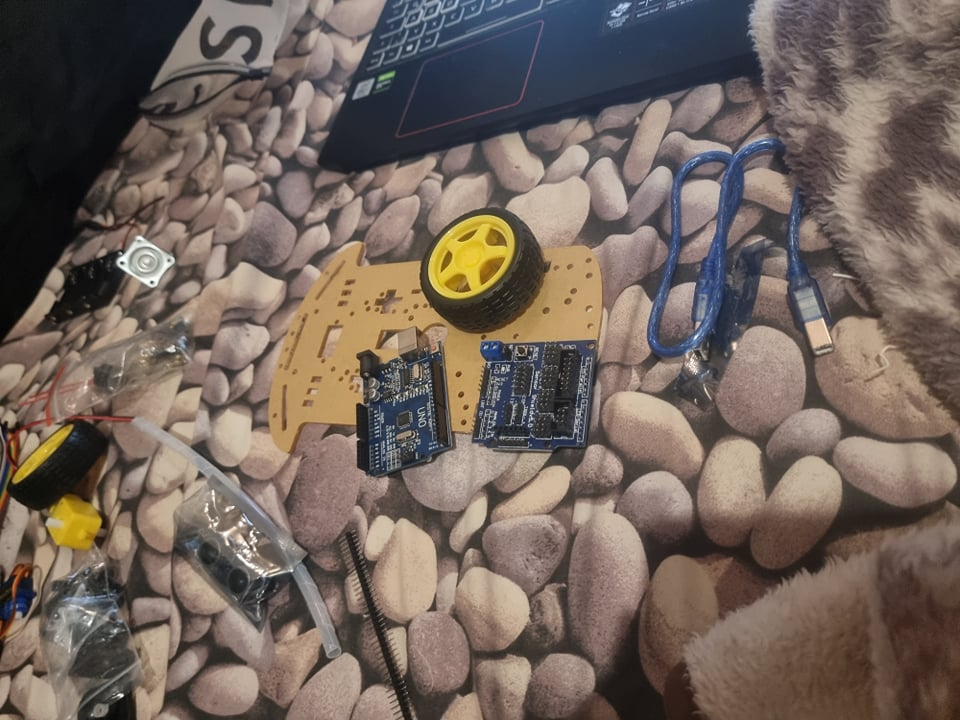5V EXPANSION: (473, 338, 599, 452)
BATTERY BOX: (39, 251, 125, 319)
SENSOR: (195, 532, 264, 609)
UNO R3: (353, 329, 455, 469)
